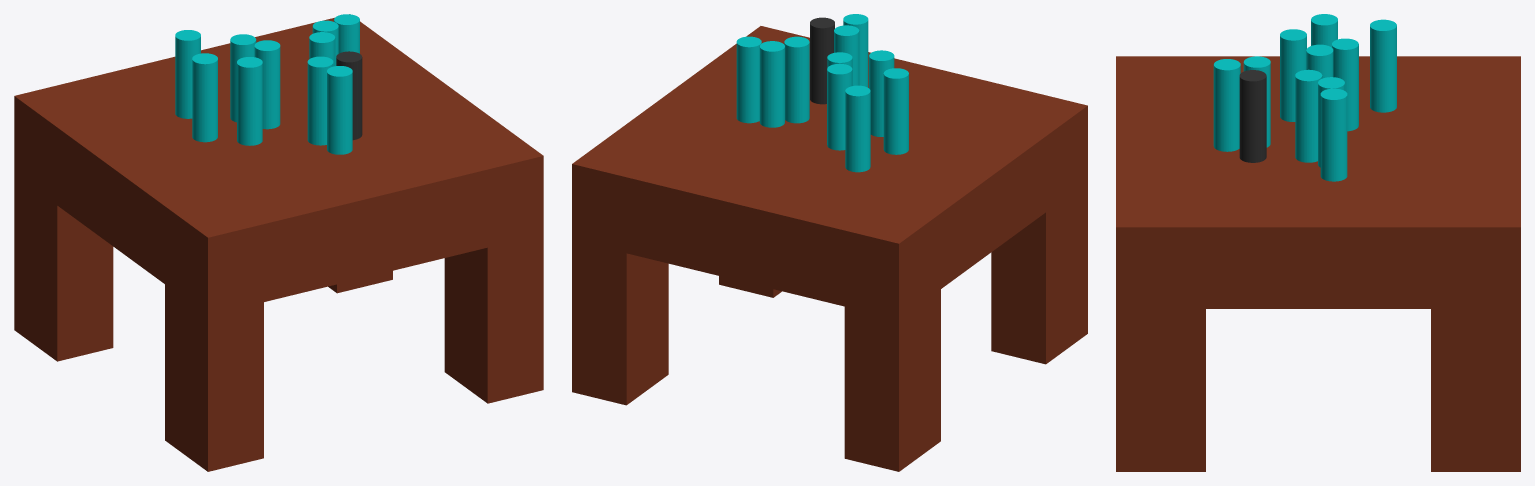
File: can_world_11_cans.dae
3 renders of one model, left to right at view 1: azimuth 30°, elevation 25°; view 2: azimuth 150°, elevation 25°; view 3: azimuth 270°, elevation 25°, orthographic. The views are drawn at different scales.
Visible parts, largest first — view 1: base (×15); view 2: base (×15); view 3: base (×14).
Boxes of the visible parts, box(x1,y1,x2,y2) form: base (×15): box(14, 14, 543, 471); base (×15): box(572, 14, 1087, 471); base (×14): box(1116, 14, 1520, 471).
Bounding box in the file's own units: 0.9 × 0.9 × 0.811.
